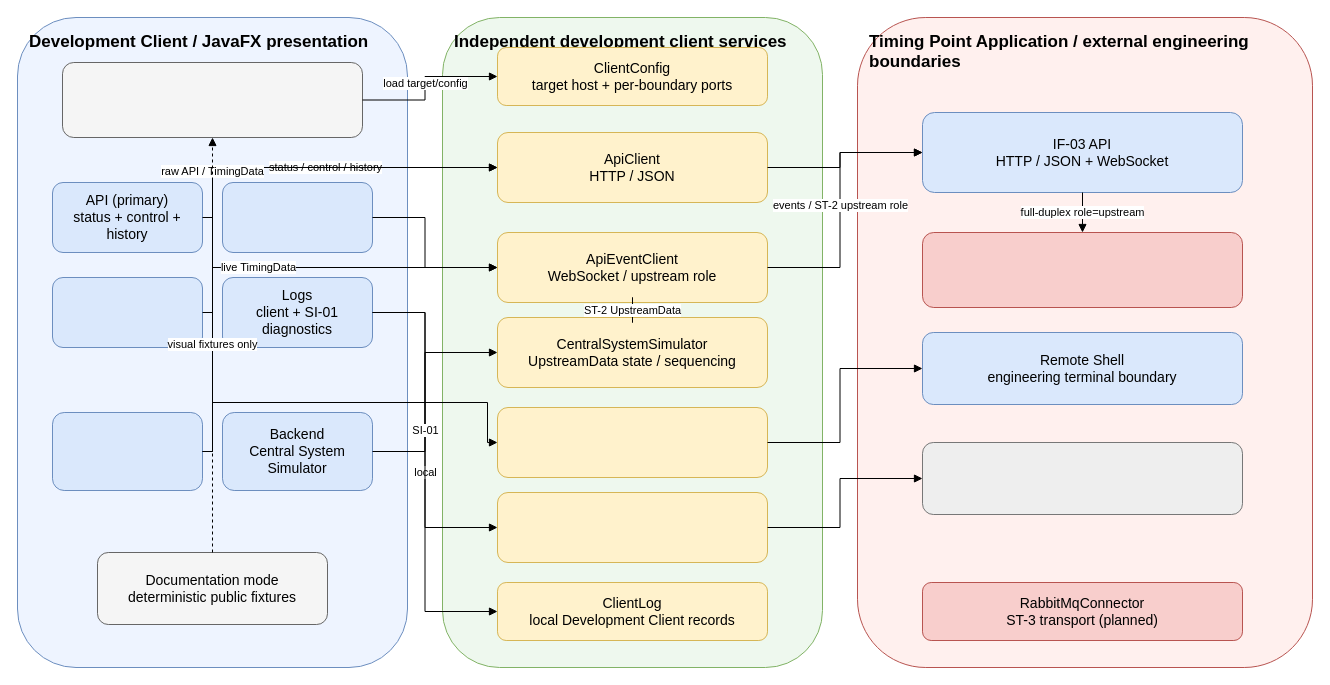
Some shapes in this 1330 by 685 pixel diagram are drawn without their labels. The shapes that lost their labels are listed below. From the top down, each one's centre as x and y in pixels, then its label:
point (212, 100): TestClientFxApplication JavaFX shell / target toolbar
point (297, 217): Events WebSocket inspection
point (1082, 270): EngineeringApiConnector full-duplex role=upstream
point (127, 312): Terminal Remote Shell
point (127, 451): API detail raw result + TimingData
point (632, 442): RemoteShellClient line-oriented TCP
point (1082, 478): LoggingServer live diagnostics boundary
point (632, 527): LiveLogClient diagnostics TCP
